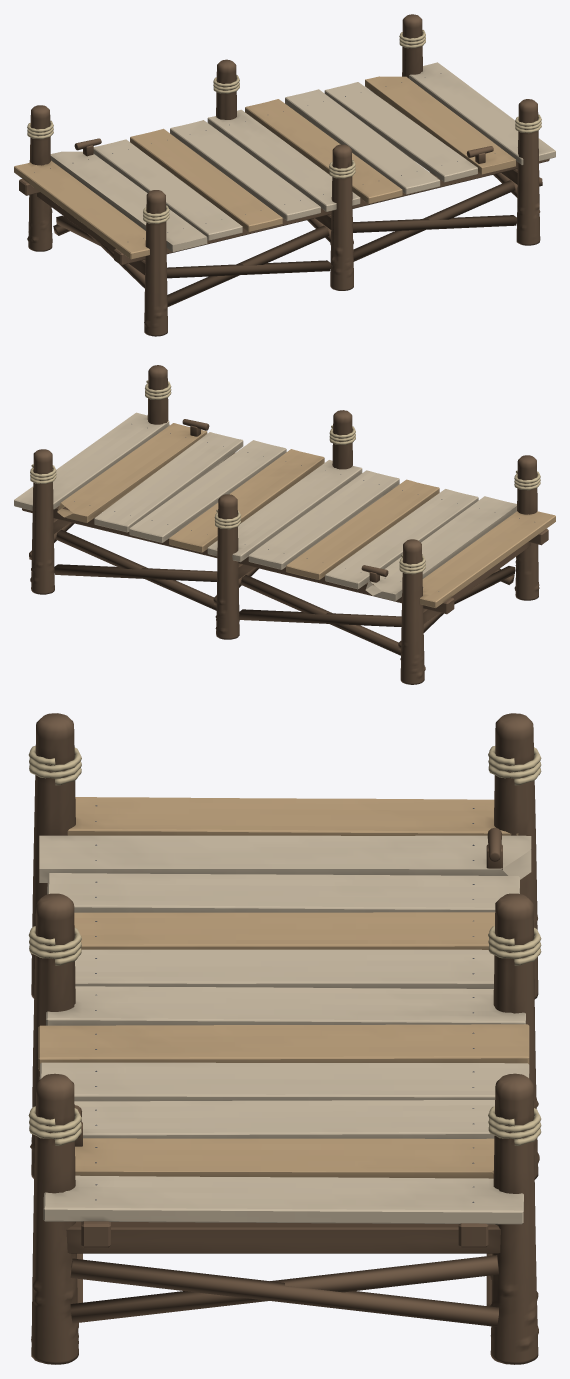
File: dock_mid.dc5c16ea.glb
3 renders of one model, top to bottom at view 1: azimuth 30°, elevation 25°; view 2: azimuth 150°, elevation 25°; view 3: azimuth 270°, elevation 25°, orthographic. The views are drawn at different scales.
Visible parts, largest first — view 1: dock_mid; view 2: dock_mid; view 3: dock_mid.
Boxes of the visible parts, x1,y1,x2,y2 form: dock_mid: (14, 14, 555, 336); dock_mid: (14, 365, 555, 684); dock_mid: (28, 713, 541, 1364).
Bounding box in the file's own units: 6 × 1.86 × 3.13.
